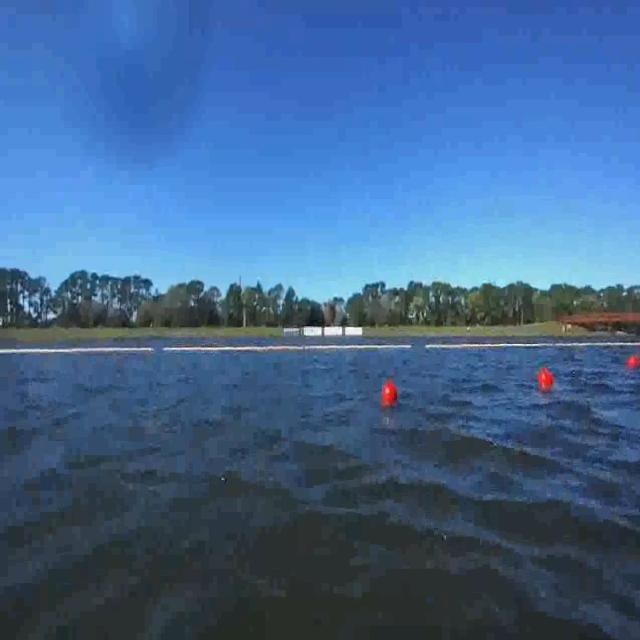red-buoy: (380, 380, 395, 406), (538, 368, 555, 389), (626, 355, 640, 370)
